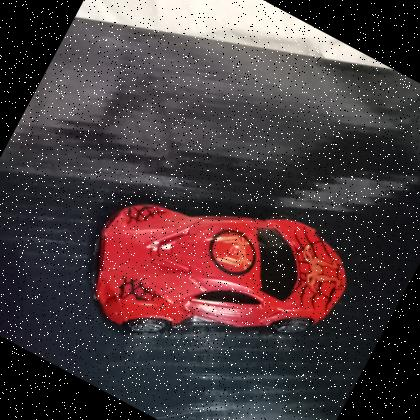Car: (56, 132, 371, 420)
